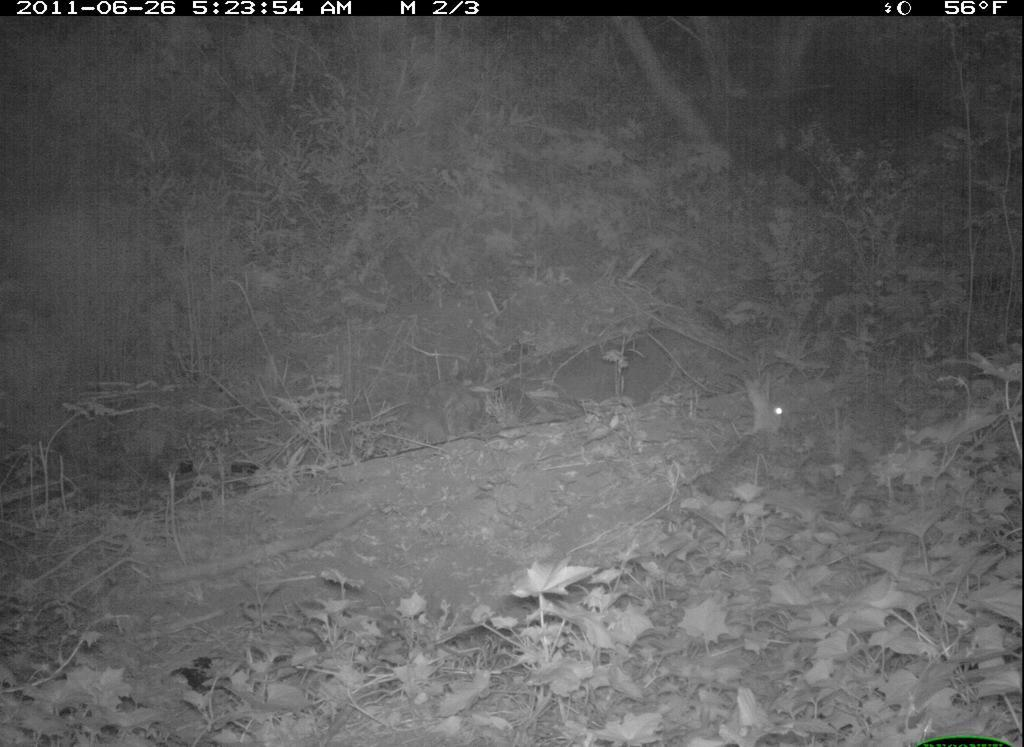rabbit: (715, 346, 871, 469)
